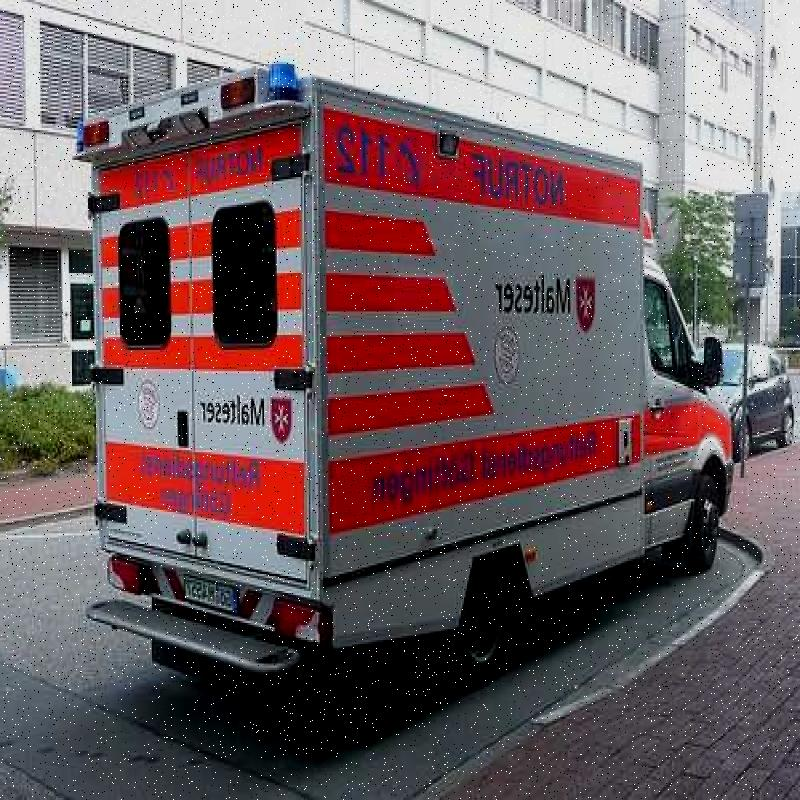AmbulanceSiren: (55, 26, 312, 173)
